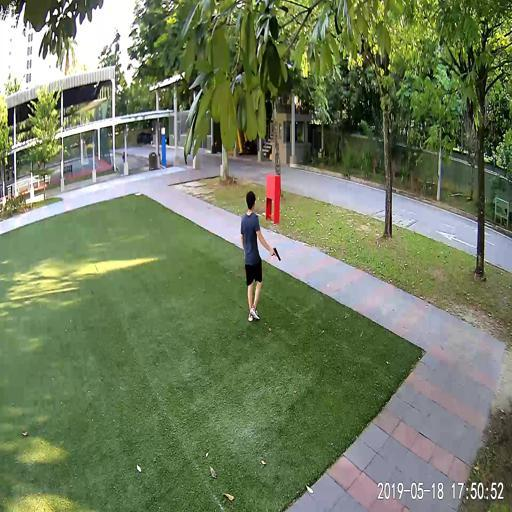Handgun: (270, 245, 280, 260)
